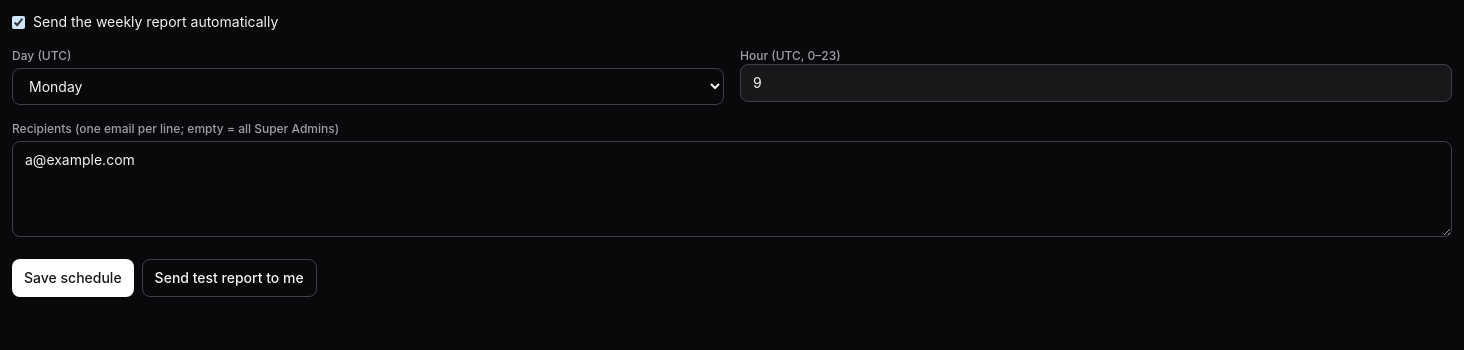
it: ReportScheduleForm › shows the server error when saving fails
The image size is (1464, 350).
Step 1. Click the button "Save schedule" → (73, 278), box [12,259,134,297]
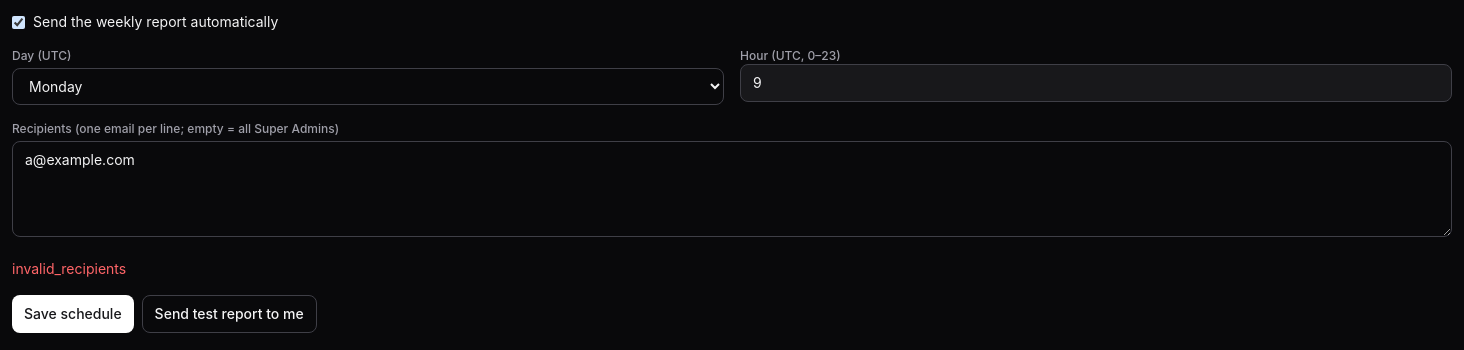
Result: the message reads "invalid_recipients" at [12,260,126,277]
